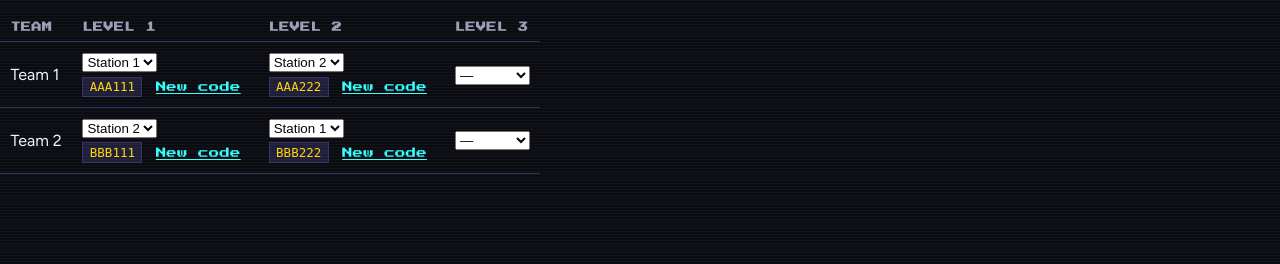
Test case: RouteGrid › explains a location already taken at that level in plain words
The width and height of the screenshot is (1280, 264).
Select "Station 2" in the dropdown named "Team 1 level 3 location" at (492, 75), box x1=455 y1=66 x2=530 y2=85
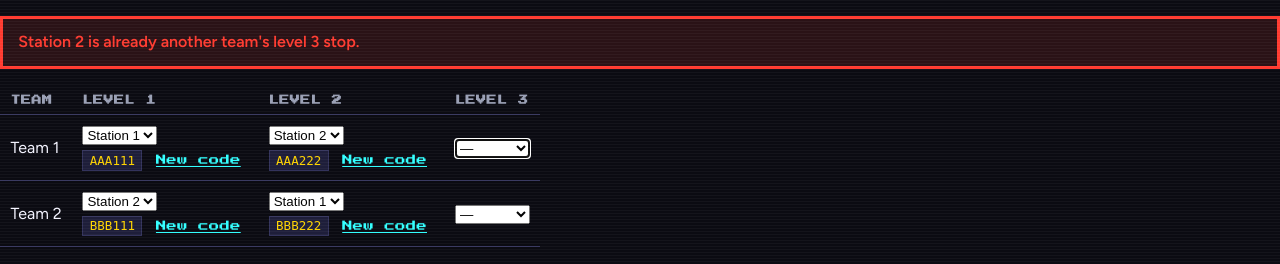
Expected: the text "Station 2 is already another team's level 3 stop." is shown, x1=0 y1=16 x2=1279 y2=69
